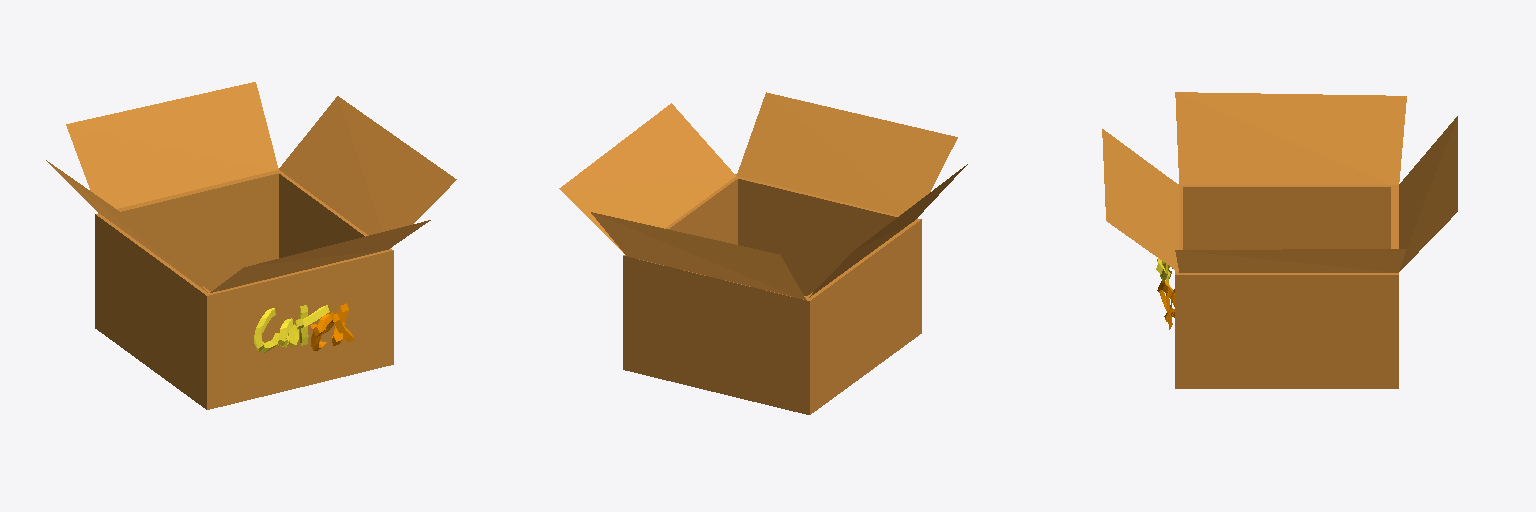
3 views of the same model, side by side, from view 1: azimuth 30°, elevation 25°; view 2: azimuth 150°, elevation 25°; view 3: azimuth 270°, elevation 25° (orthographic).
Parts seen in each view (by area): view 1: group[number redacted], group[number redacted], group[number redacted], group[number redacted], group[number redacted], group[number redacted], group[number redacted], group[number redacted], group[number redacted], group[number redacted]; view 2: group[number redacted], group[number redacted], group[number redacted], group[number redacted], group[number redacted], group[number redacted], group[number redacted], group[number redacted], group[number redacted]; view 3: group[number redacted], group[number redacted], group[number redacted], group[number redacted], group[number redacted], group[number redacted], group[number redacted], group[number redacted].
Boxes of the visible parts, x1,y1,x2,y2 form: group[number redacted]: [203, 251, 386, 402]; group[number redacted]: [66, 82, 278, 208]; group[number redacted]: [279, 96, 456, 234]; group[number redacted]: [99, 216, 213, 401]; group[number redacted]: [95, 170, 281, 322]; group[number redacted]: [279, 172, 393, 358]; group[number redacted]: [210, 220, 430, 292]; group[number redacted]: [95, 321, 393, 409]; group[number redacted]: [46, 160, 207, 292]; group[number redacted]: [254, 308, 278, 352]; group[number redacted]: [623, 255, 813, 407]; group[number redacted]: [737, 92, 957, 215]; group[number redacted]: [803, 219, 918, 407]; group[number redacted]: [559, 103, 735, 251]; group[number redacted]: [738, 177, 921, 328]; group[number redacted]: [591, 212, 805, 299]; group[number redacted]: [665, 174, 738, 244]; group[number redacted]: [623, 326, 921, 414]; group[number redacted]: [809, 164, 967, 297]; group[number redacted]: [1175, 273, 1394, 381]; group[number redacted]: [1175, 92, 1406, 184]; group[number redacted]: [1179, 185, 1390, 249]; group[number redacted]: [1102, 129, 1178, 271]; group[number redacted]: [1399, 116, 1457, 271]; group[number redacted]: [1175, 249, 1406, 272]; group[number redacted]: [1175, 382, 1398, 388]; group[number redacted]: [1391, 185, 1398, 381].
Size of the model in its own units: 0.845 by 0.495 by 0.875.